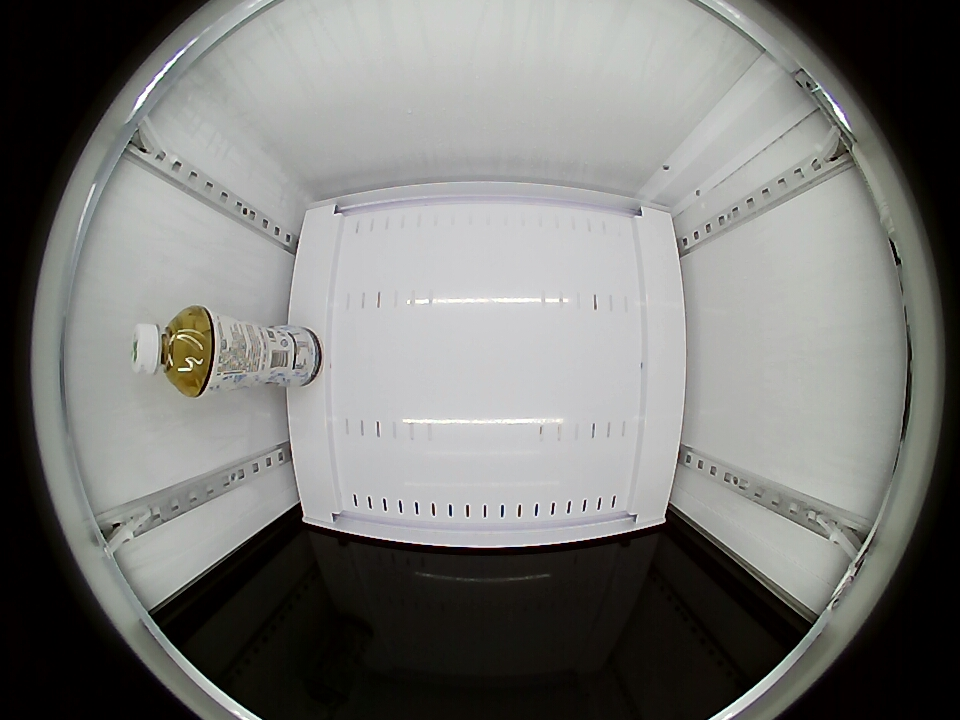baicha: (129, 306, 218, 397)
